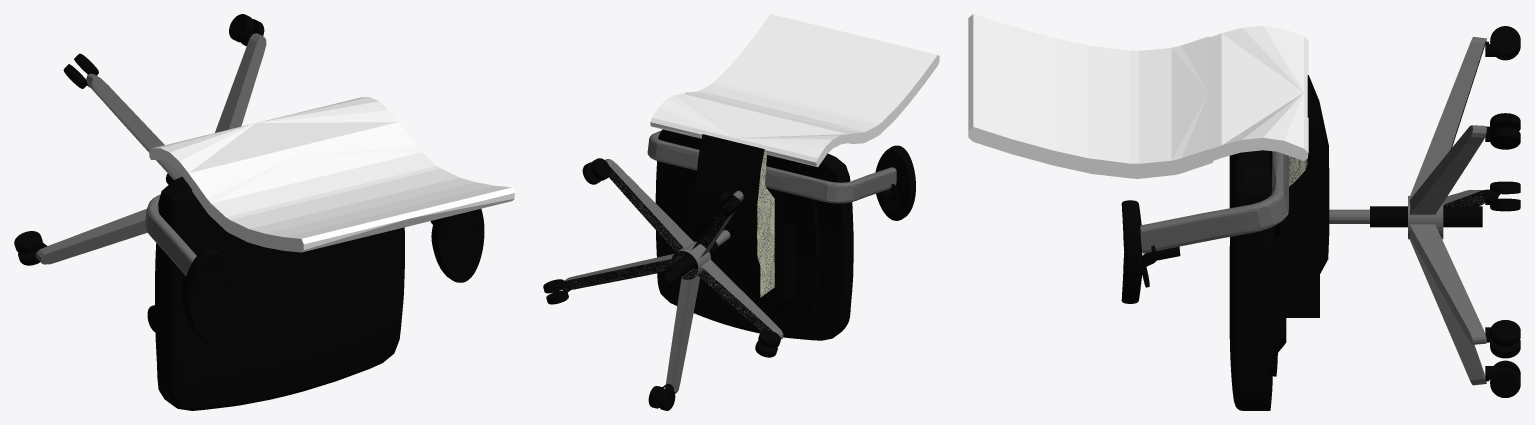
3 renders of one model, left to right at view 1: azimuth 30°, elevation 25°; view 2: azimuth 150°, elevation 25°; view 3: azimuth 270°, elevation 25°, orthographic. The views are drawn at different scales.
Visible parts, largest first — view 1: steelcase jersey guest ts task with arms office chair; view 2: steelcase jersey guest ts task with arms office chair; view 3: steelcase jersey guest ts task with arms office chair.
Boxes of the visible parts, x1,y1,x2,y2 form: steelcase jersey guest ts task with arms office chair: (14, 14, 514, 410); steelcase jersey guest ts task with arms office chair: (543, 14, 939, 410); steelcase jersey guest ts task with arms office chair: (968, 14, 1520, 410).
Size of the model in its own units: 26.72 by 25.28 by 39.14.
